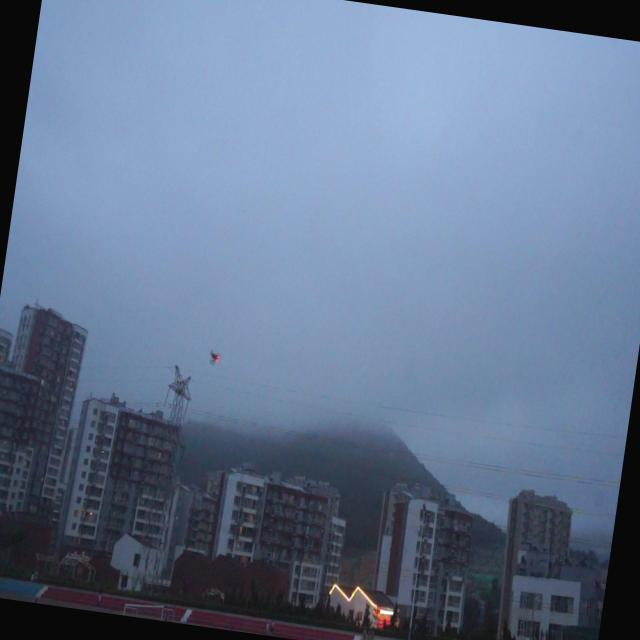drone: (204, 344, 224, 374)
